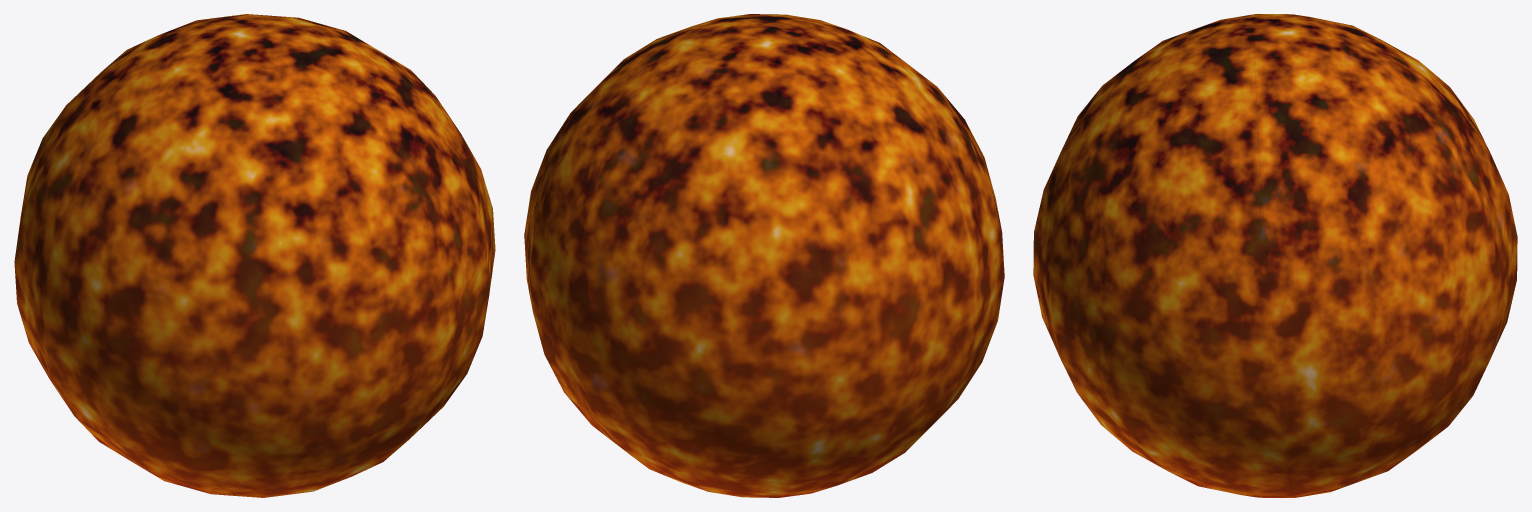
File: SkyBox_Fire.fbx
3 renders of one model, left to right at view 1: azimuth 30°, elevation 25°; view 2: azimuth 150°, elevation 25°; view 3: azimuth 270°, elevation 25°, orthographic.
Visible parts, largest first — view 1: Sphere; view 2: Sphere; view 3: Sphere.
Boxes of the visible parts, x1=… form: Sphere: x1=14, y1=14, x2=495, y2=497; Sphere: x1=524, y1=14, x2=1004, y2=497; Sphere: x1=1033, y1=14, x2=1517, y2=497.
Size of the model in its own units: 106539 by 106133 by 106133.
